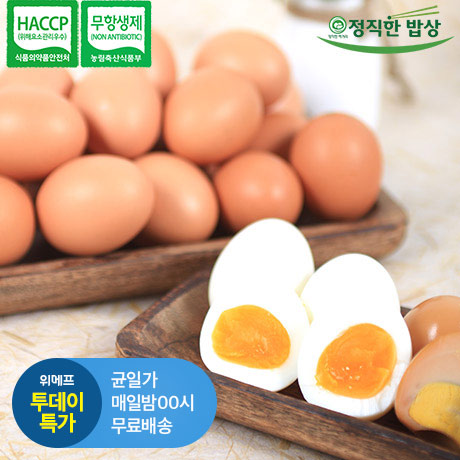egg: (2, 27, 385, 265), (202, 220, 460, 443)
